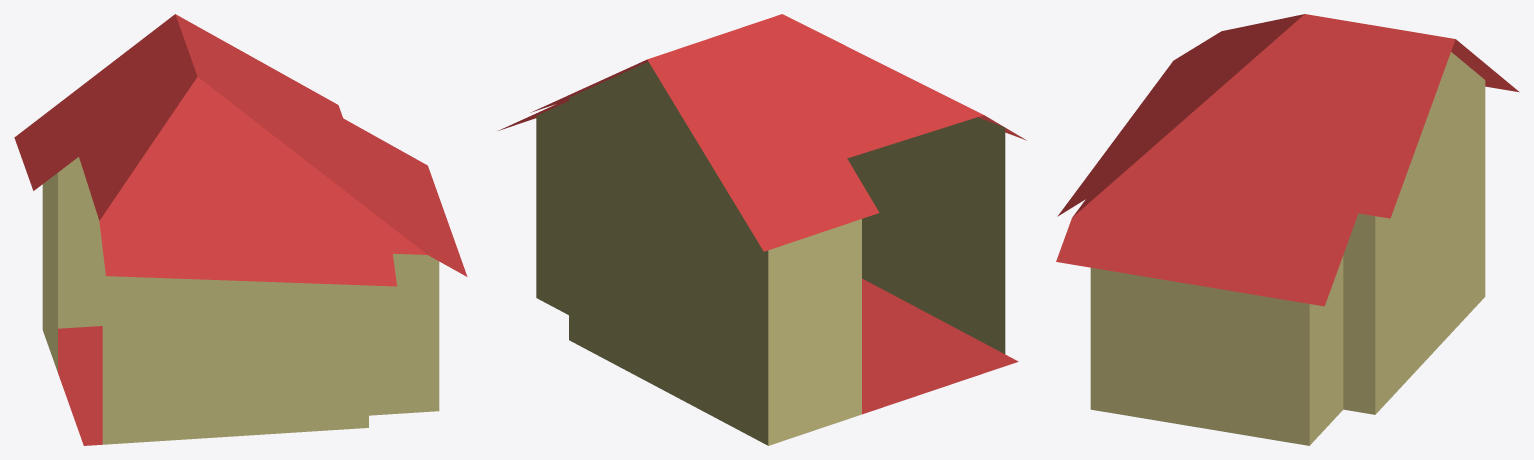
3 views of the same model, side by side, from view 1: azimuth 30°, elevation 25°; view 2: azimuth 150°, elevation 25°; view 3: azimuth 270°, elevation 25° (orthographic). The views are drawn at different scales.
Size of the model in its own units: 18.6 by 17.34 by 13.21.
